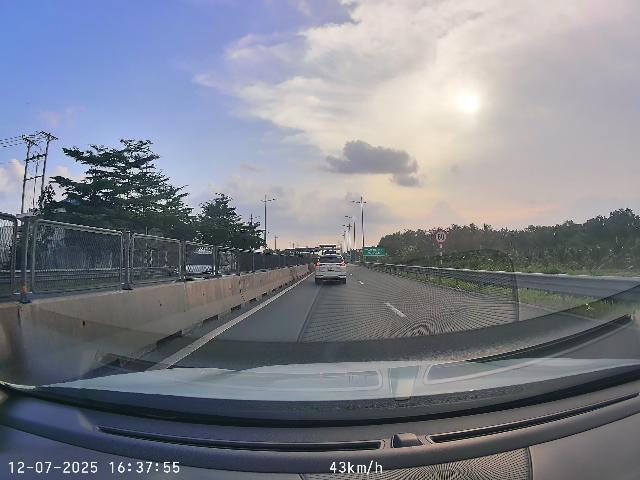127-toc-do-toi-da-60: (434, 229, 448, 244)
